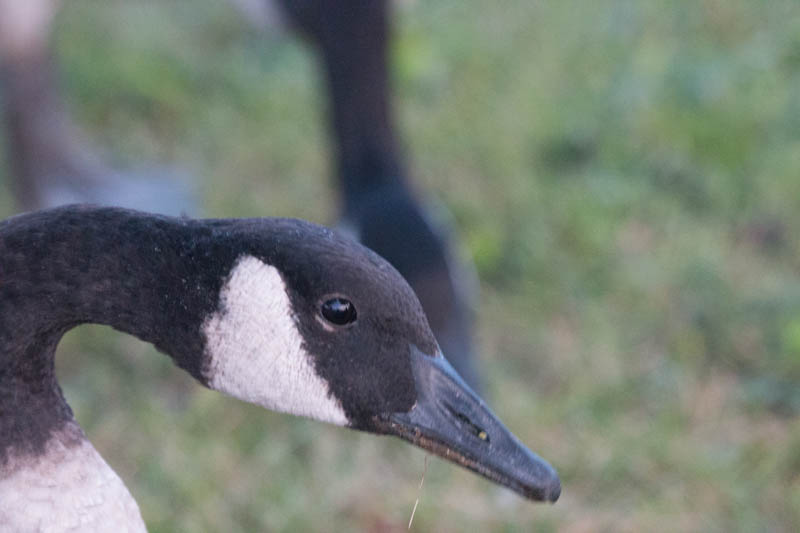goose-head: (176, 218, 561, 507)
